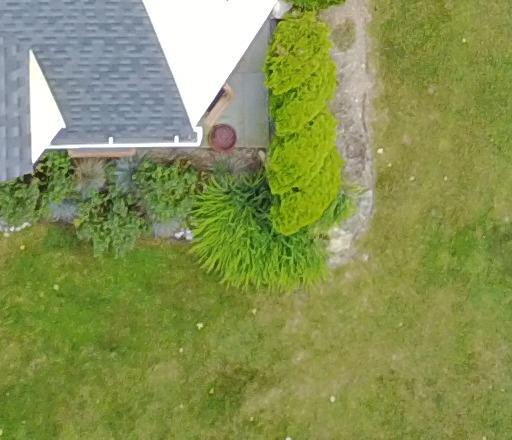container: (208, 111, 245, 163)
